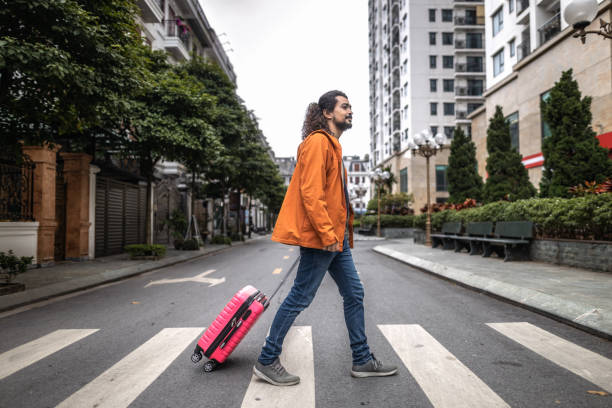yaya: (235, 73, 433, 397)
